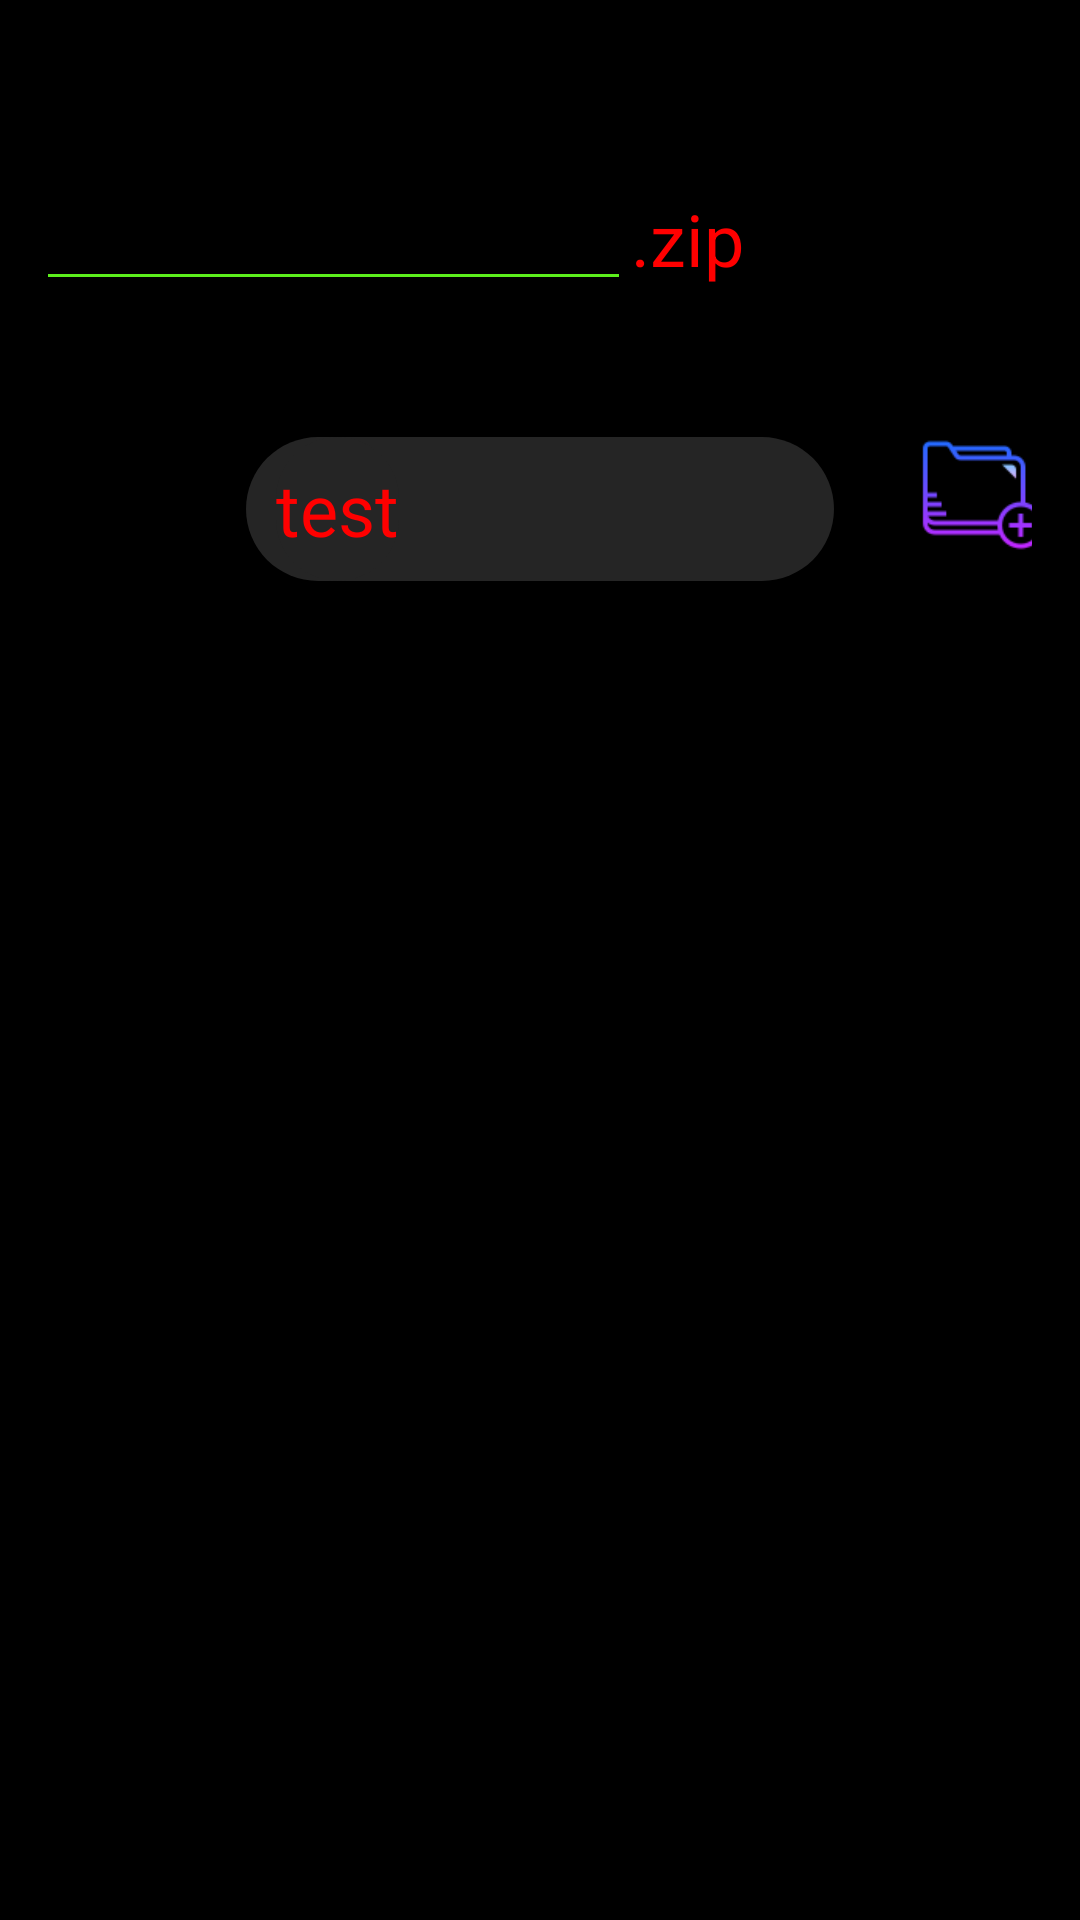

Icons on this 1080*1920 Android screen, each with its box as (x1, y1, x2, y2):
New Folder: (922, 440, 1032, 550)
